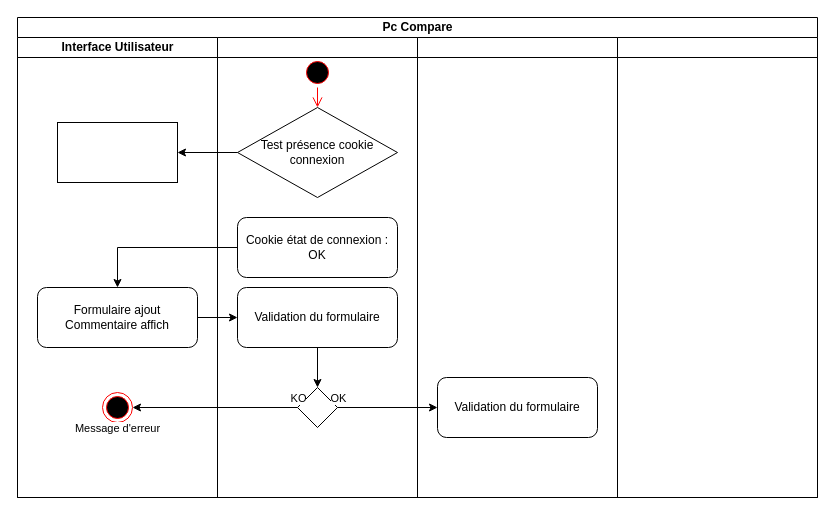
The diagram is 835 pixels wide and 515 high, and some of its shapes have lost their labels. The shapes that lost their labels are listed below. From the top down, each one's box as (x1, y1, x2, y2) in pixels, then its label:
(216, 36, 418, 498): Front-end (ReactJS)
(416, 36, 618, 498): Back-end(NodeJS)
(616, 36, 818, 498): Database(MySQL)
